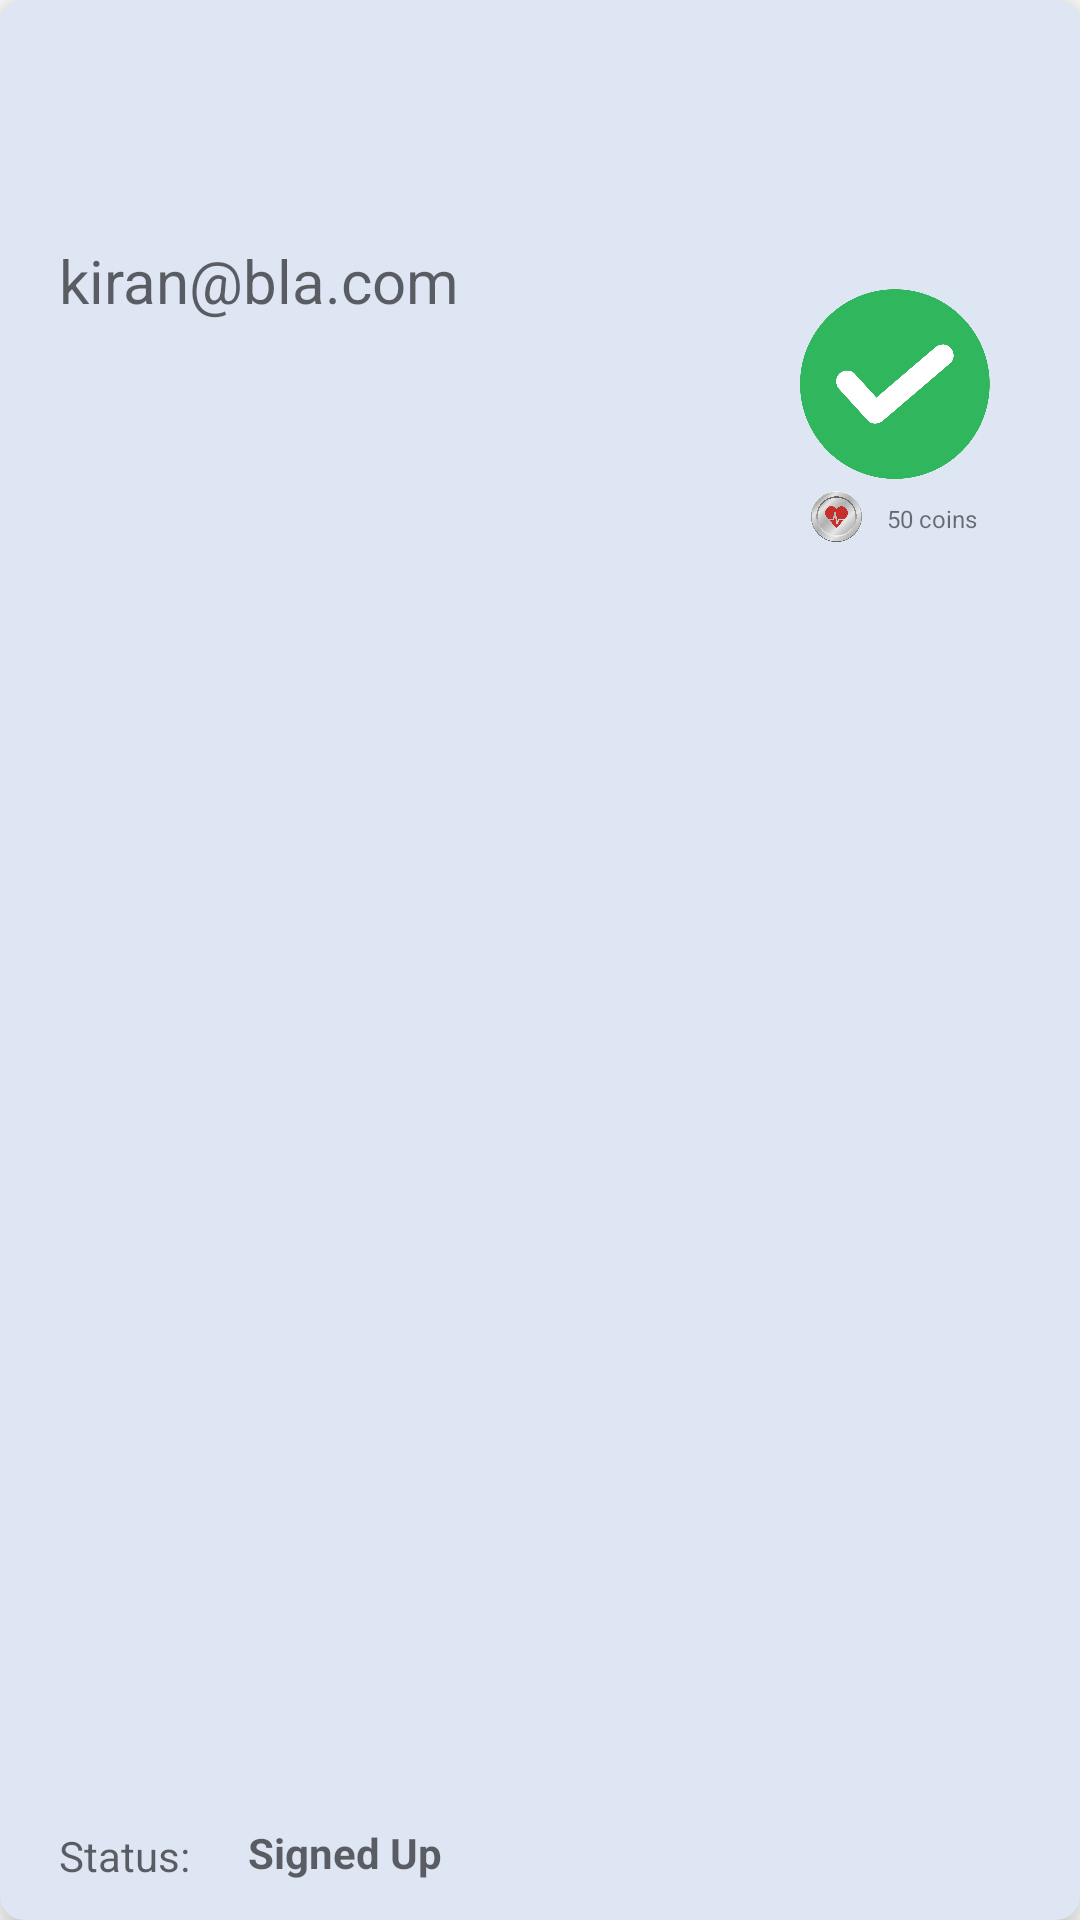

Icons on this 1080 x 1920 Android screen, each with the point to tap as (x=x, y=y):
life coin: (x=836, y=517)
tick: (x=895, y=384)
